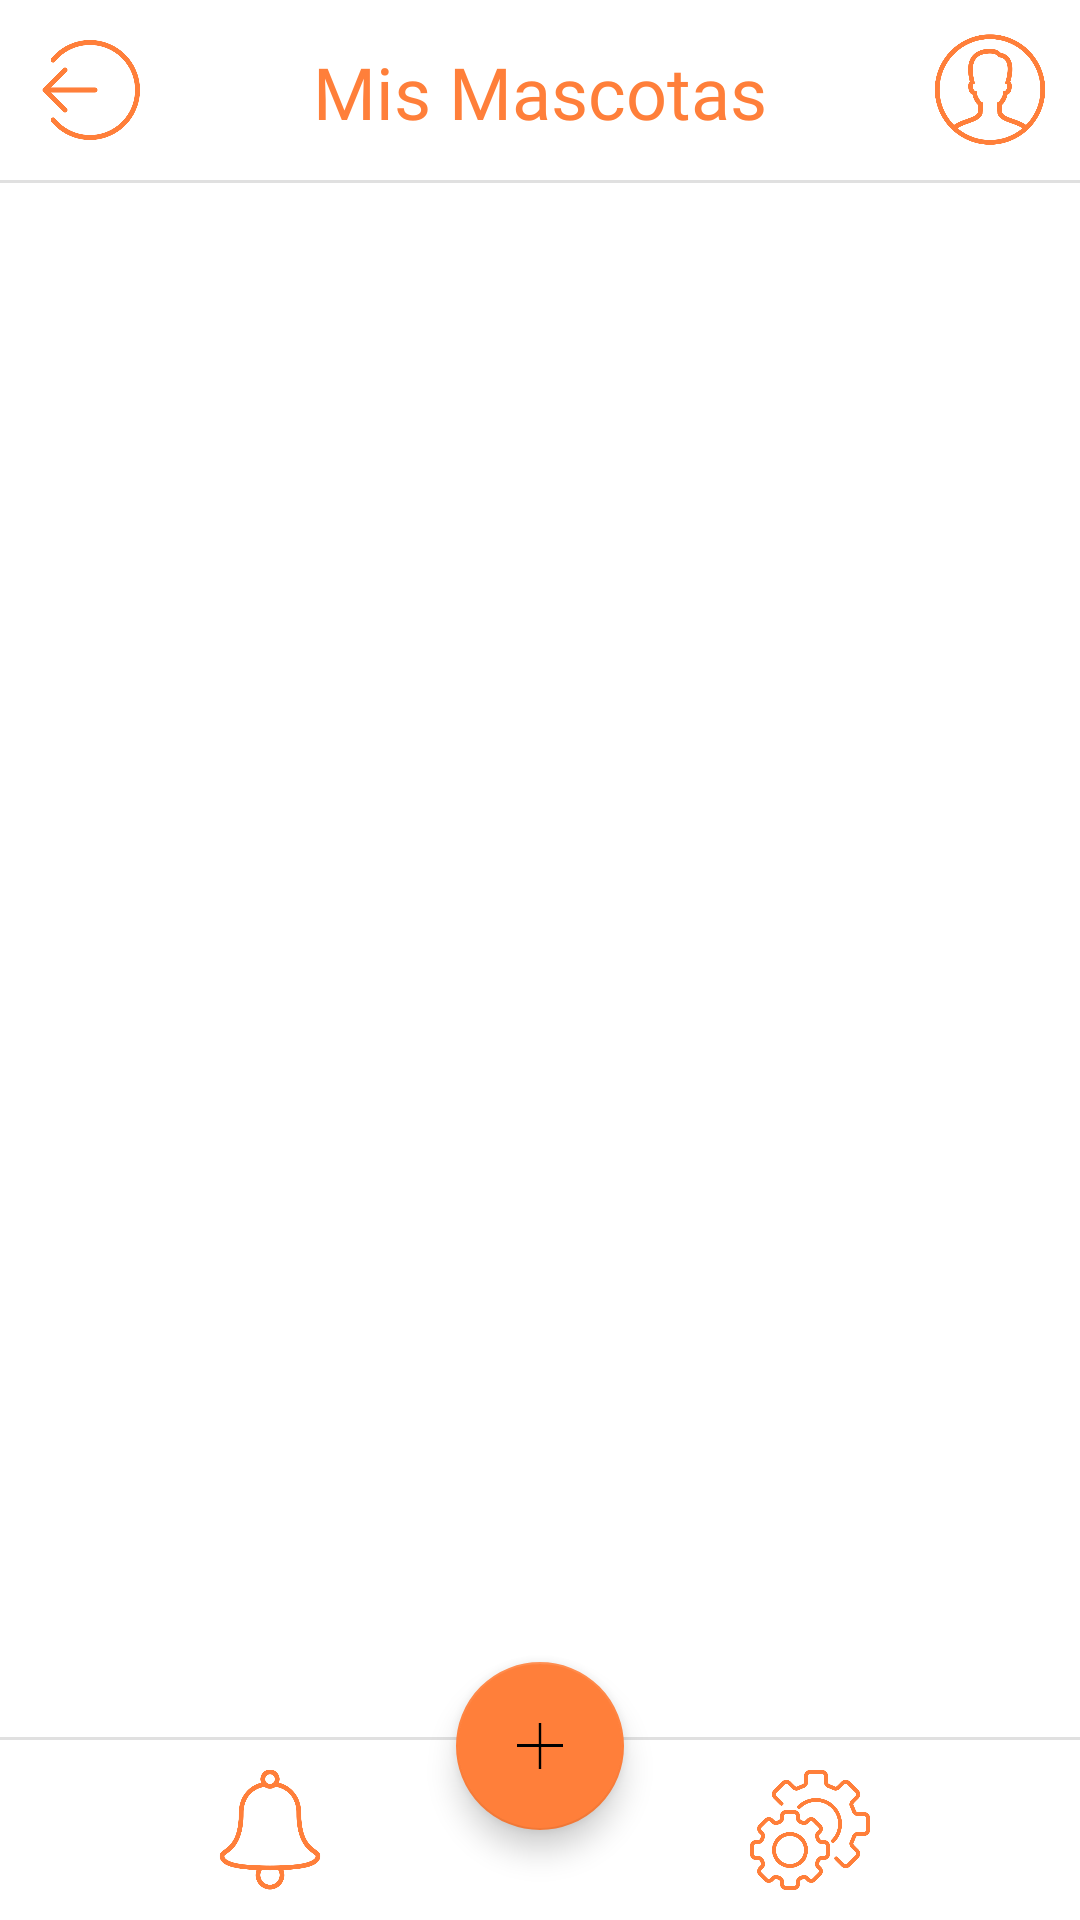

Icon click points for this 1080 x 1920 phone screenshot, format (x,y):
Agregar: (540,1746)
boton notificaciones: (270,1830)
boton perfil: (990,89)
